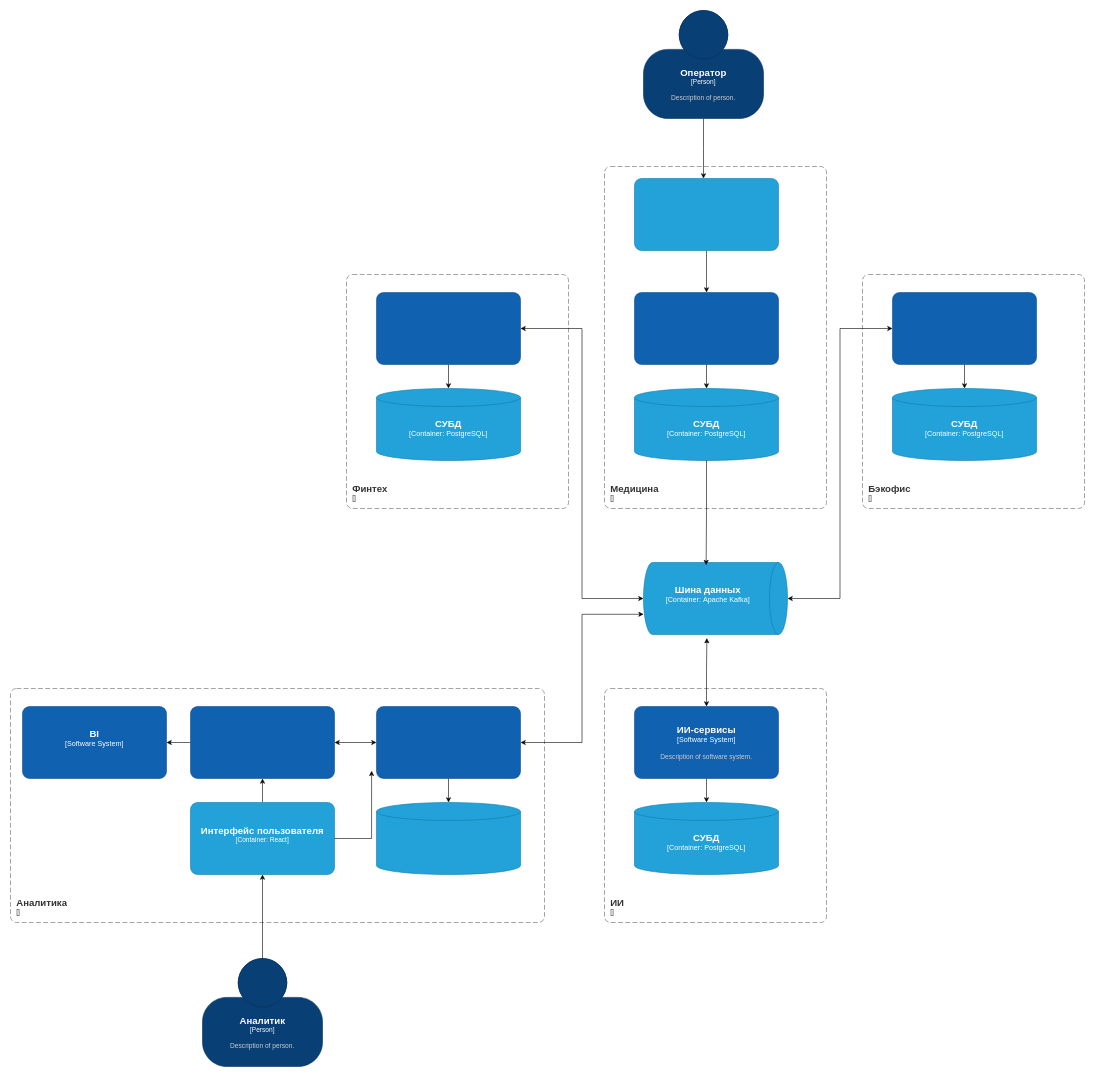
Image size: 1095x1077. Some labels were removed from this diagram. Here are the shapes that lost their labels. From the top down, the centre of each, then its label:
At (x=706, y=214): "Интерфейс оператора [Container: React]".
At (x=448, y=328): "Финтех сервисы [Software System] Description of software system.".
At (x=706, y=328): "Медицинские сервисы [Software System] Description of software system.".
At (x=964, y=328): "Сервисы бэкофиса [Software System] Description of software system.".
At (x=262, y=742): "DWH [Software System]".
At (x=448, y=742): "Аналитические сервисы [Software System] Description of software system.".
At (x=448, y=838): "СУБД [Container: PostgreSQL, S3]".
